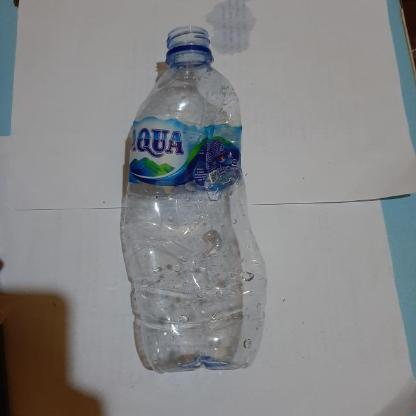Plastic Bottle: (121, 26, 266, 374)
